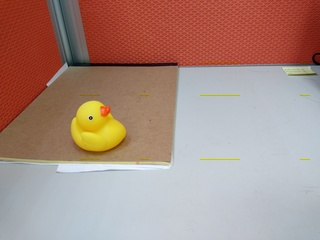duck: (66, 97, 130, 160)
